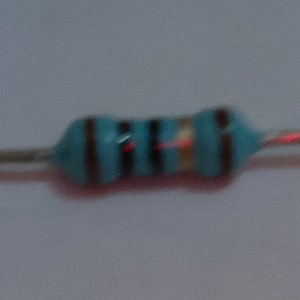black_band: (145, 117, 166, 177), (117, 118, 136, 180)
brown_band: (214, 107, 236, 177), (82, 115, 102, 188)
gold_band: (177, 114, 195, 176)
